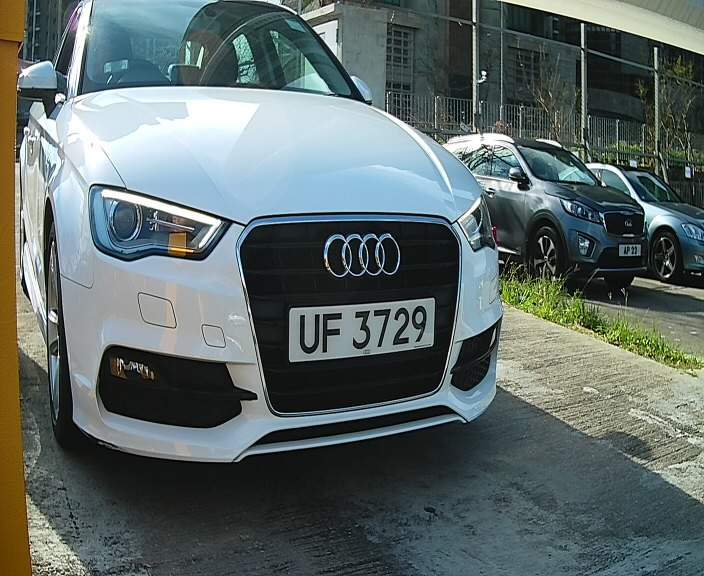Car: (18, 11, 515, 506)
License Plate: (279, 295, 442, 373)
